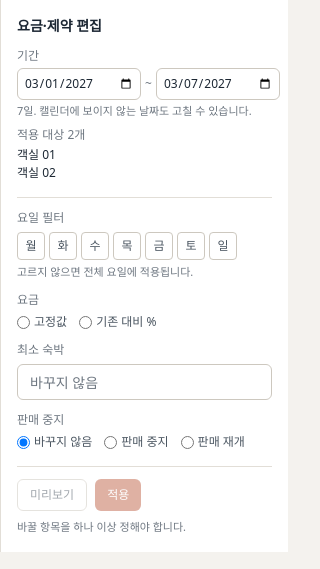
요금·제약 편집 패널 › 서버가 거절하면 이유를 그대로 보여 준다
The image size is (320, 569).
Type "2" into the number field with test id "min-stay-input". click: (144, 382)
box: [17,364,272,400]
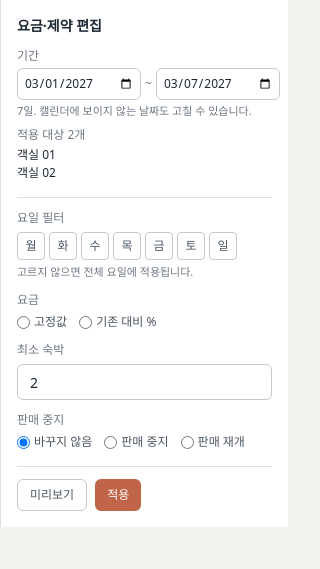
Click the button with test id "apply-button". click: (118, 495)
box: [95,479,141,511]
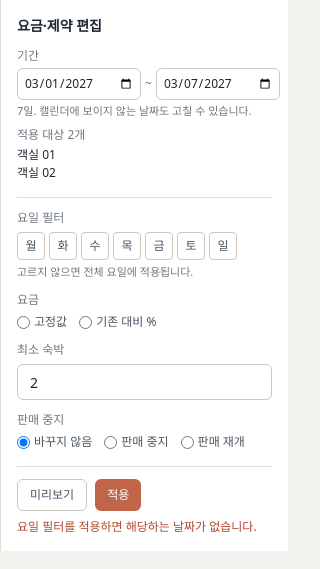
Result: the message with test id "bulk-edit-error" shows "해당하는 날짜가 없습니다" at [17,518,257,535]
